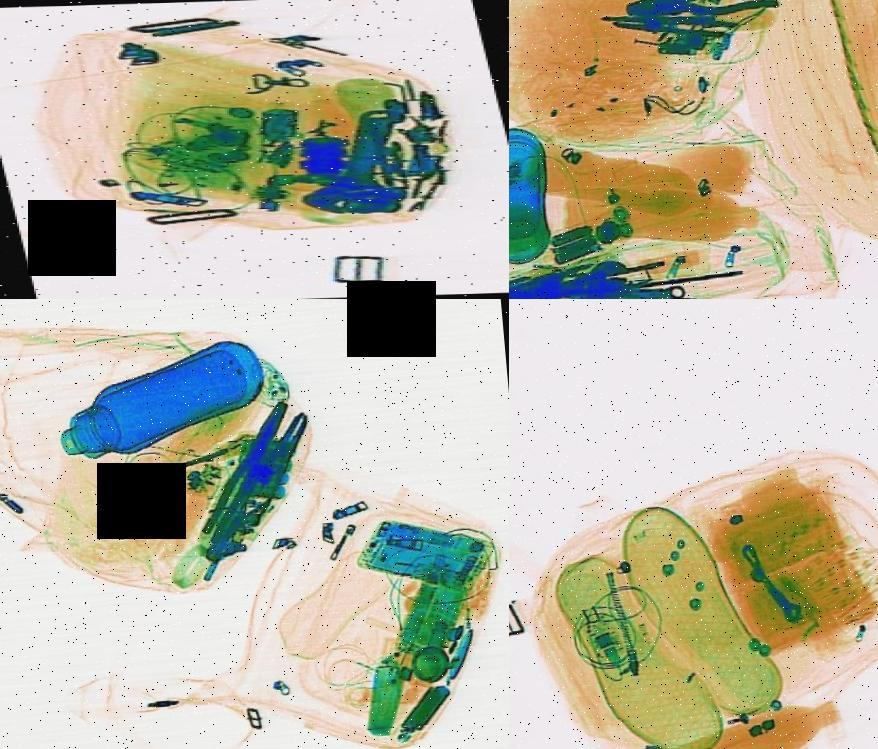Pliers: (195, 400, 326, 552), (621, 0, 788, 25)
Wrench: (268, 97, 453, 222), (509, 252, 634, 299)
